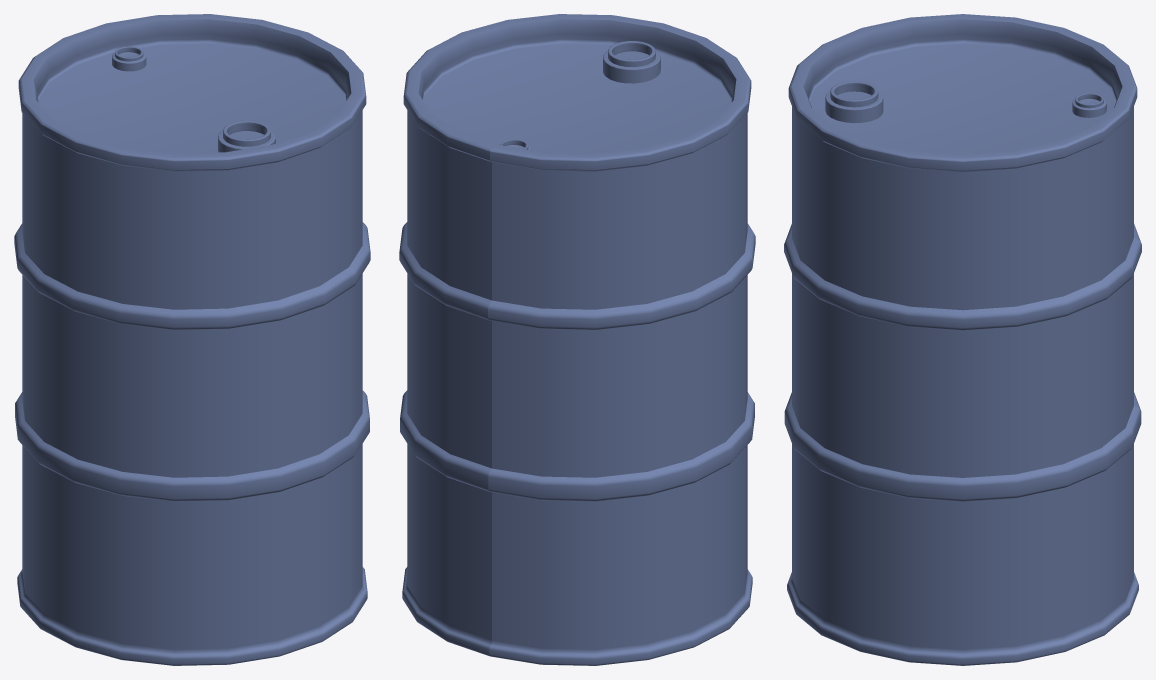
The model's file is Barrel_30_low.fbx.
3 renders of one model, left to right at view 1: azimuth 30°, elevation 25°; view 2: azimuth 150°, elevation 25°; view 3: azimuth 270°, elevation 25°, orthographic.
Parts seen in each view (by area): view 1: Barrel_30_low2; view 2: Barrel_30_low2; view 3: Barrel_30_low2.
Boxes of the visible parts, x1,y1,x2,y2 form: Barrel_30_low2: [14, 14, 370, 665]; Barrel_30_low2: [399, 14, 755, 665]; Barrel_30_low2: [784, 14, 1141, 665].
Size of the model in its own units: 42.05 by 65.65 by 42.05.
